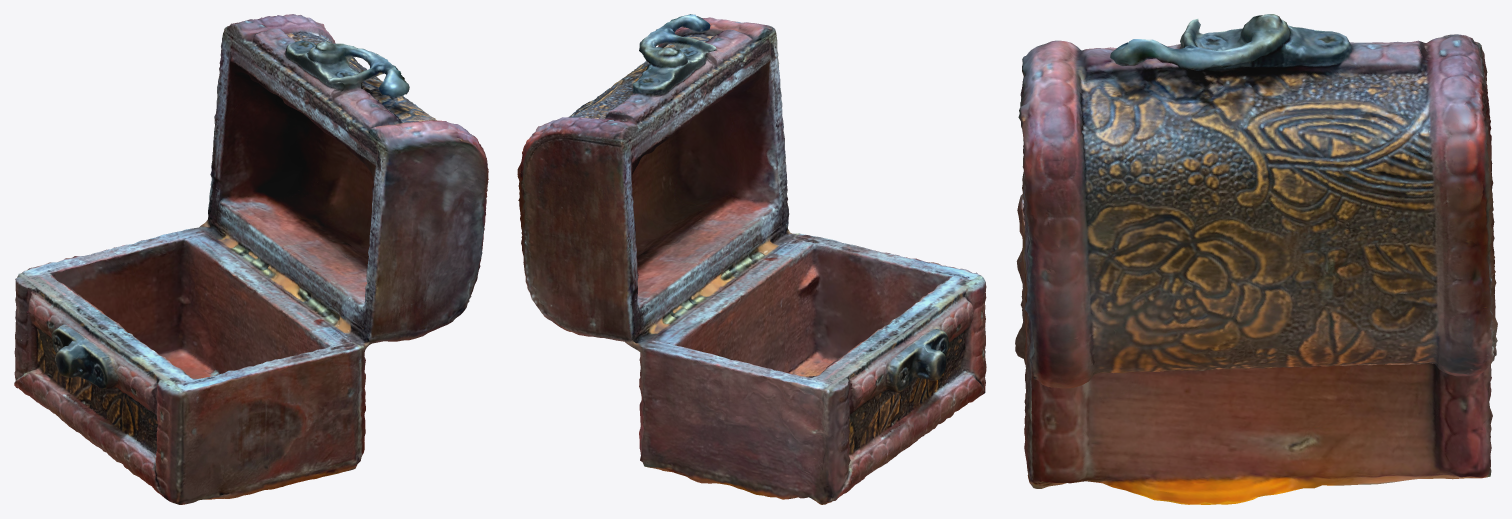
The model's file is open_treasure_chest.glb.
The picture shows the model from 3 angles, left to right: view 1: azimuth 30°, elevation 25°; view 2: azimuth 150°, elevation 25°; view 3: azimuth 270°, elevation 25°; orthographic projection. The views are drawn at different scales.
Parts seen in each view (by area): view 1: Object_2; view 2: Object_2; view 3: Object_2.
Part boxes in pixels (box(x1,y1,x2,y2)): Object_2: box(14, 14, 488, 504); Object_2: box(517, 14, 986, 504); Object_2: box(1015, 14, 1497, 504).
Size of the model in its own units: 0.3579 by 0.3421 by 0.293.
Materials: 1 (1 with a texture image).
